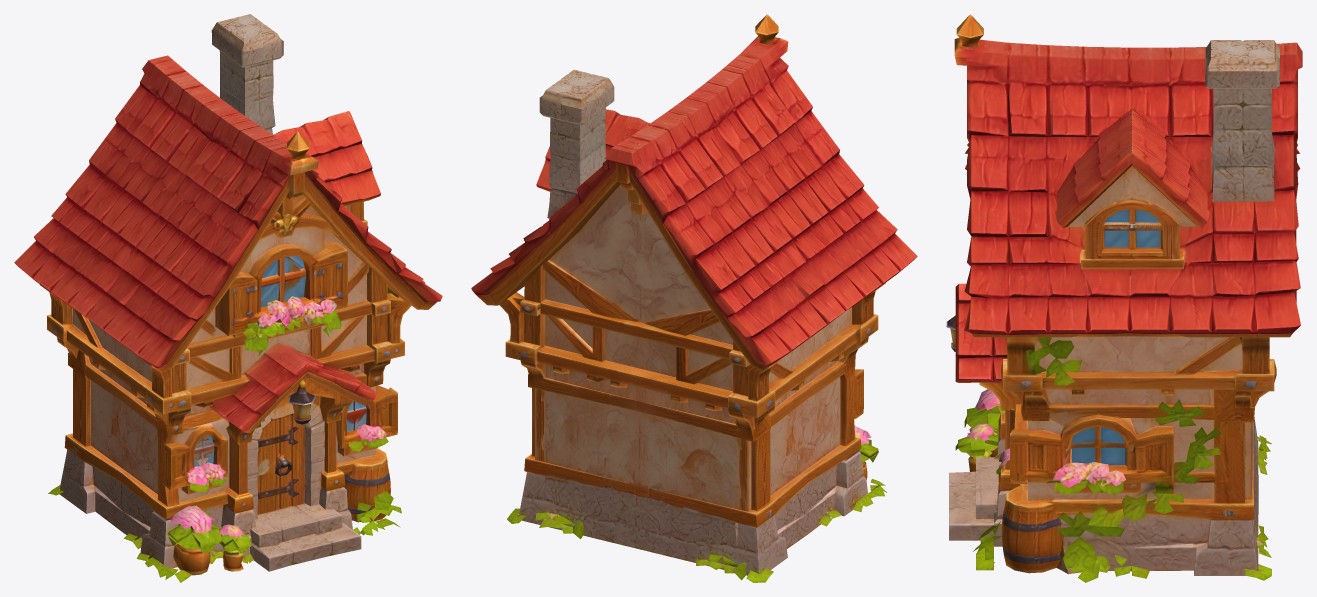
File: house-red-gable.glb
The picture shows the model from 3 angles, left to right: view 1: azimuth 30°, elevation 25°; view 2: azimuth 150°, elevation 25°; view 3: azimuth 270°, elevation 25°; orthographic projection. The views are drawn at different scales.
Visible parts, largest first — view 1: house-red-gable; view 2: house-red-gable; view 3: house-red-gable.
Part boxes in pixels (left/top/right/bottom): house-red-gable: left=14, top=14, right=442, bottom=582; house-red-gable: left=471, top=14, right=917, bottom=582; house-red-gable: left=946, top=14, right=1302, bottom=582.
Size of the model in its own units: 10.7 by 15 by 9.71.
Materials: 1 (1 with a texture image).
